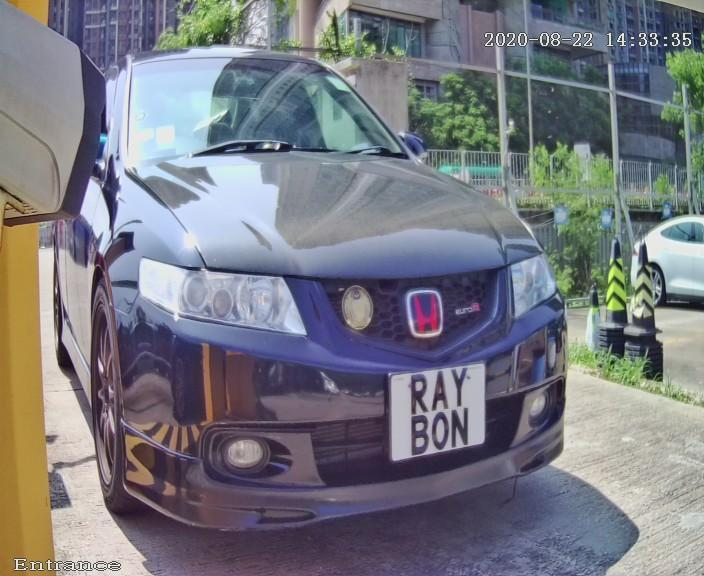Car: (35, 1, 601, 569)
License Plate: (384, 358, 494, 469)
